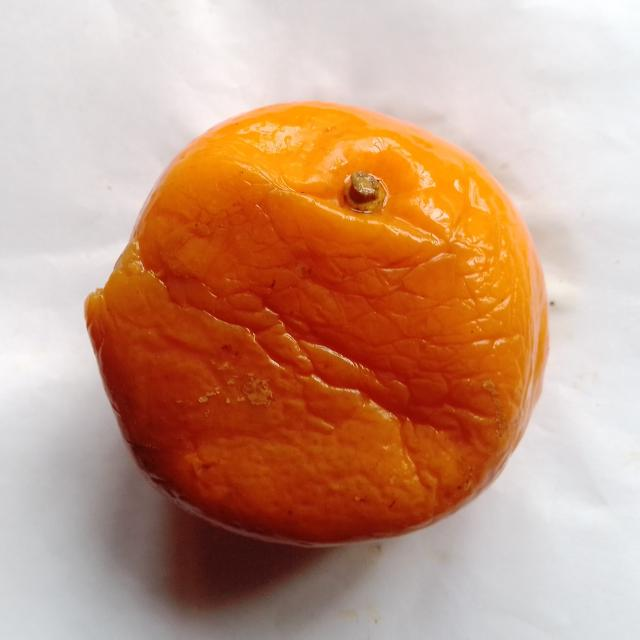orange: (86, 103, 547, 544)
